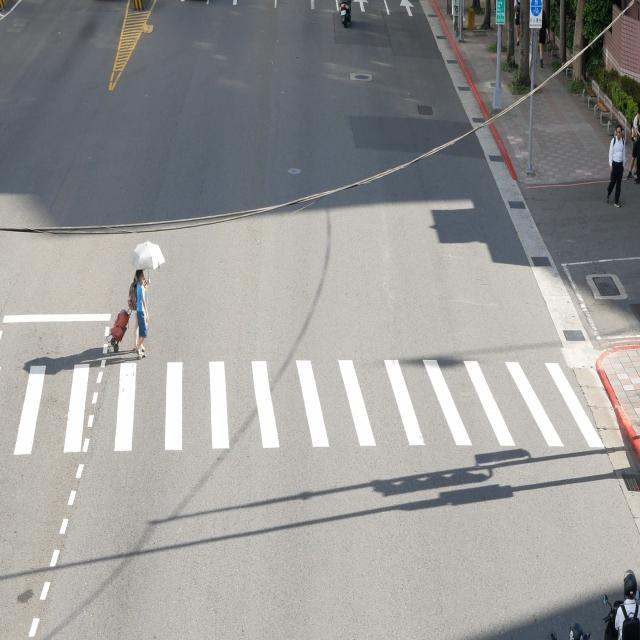pedestrian: (135, 269, 148, 357)
